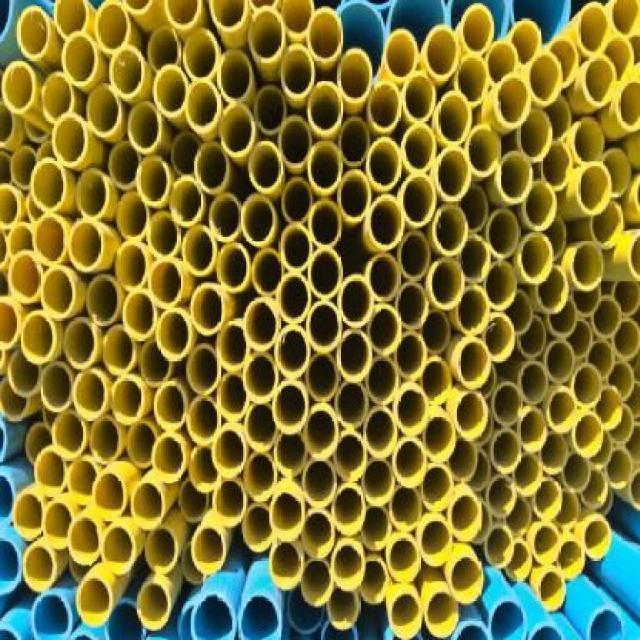pipe: (338, 0, 384, 80), (190, 590, 236, 638), (492, 74, 531, 130), (236, 593, 282, 639), (435, 144, 472, 201), (248, 6, 285, 62), (465, 123, 502, 179), (32, 591, 75, 639), (307, 8, 344, 63), (279, 44, 315, 100), (109, 45, 145, 101), (86, 83, 122, 139), (496, 151, 533, 205), (30, 158, 67, 212), (576, 162, 613, 216), (400, 172, 437, 226), (368, 195, 405, 249), (432, 203, 469, 257), (68, 219, 105, 273), (39, 266, 76, 320), (272, 381, 309, 435), (183, 27, 220, 81), (62, 33, 99, 87), (454, 55, 491, 109), (435, 92, 472, 146), (337, 48, 372, 105), (303, 406, 339, 461), (94, 1, 131, 54), (219, 103, 256, 156), (52, 115, 89, 168), (367, 136, 402, 192), (16, 5, 51, 61), (307, 81, 342, 137), (21, 311, 57, 365), (581, 52, 617, 106), (517, 109, 553, 163), (522, 178, 558, 231), (240, 194, 276, 247), (460, 2, 496, 55), (306, 299, 342, 352), (155, 308, 191, 361), (363, 406, 399, 459), (424, 26, 460, 79), (1, 61, 37, 114), (152, 65, 188, 118), (185, 79, 221, 132), (401, 122, 437, 175), (308, 140, 343, 194), (8, 250, 43, 304), (338, 274, 373, 328), (244, 296, 279, 350), (217, 48, 252, 102), (367, 79, 402, 133), (530, 49, 563, 106), (308, 247, 343, 300), (337, 329, 372, 382), (187, 343, 222, 396), (211, 425, 246, 478), (195, 142, 231, 193), (518, 232, 554, 283), (576, 2, 610, 56), (148, 258, 184, 309), (190, 282, 224, 336), (366, 305, 402, 356), (63, 318, 99, 369), (275, 327, 311, 378), (71, 369, 107, 420), (394, 385, 430, 436), (151, 432, 187, 483), (131, 479, 167, 530), (269, 490, 305, 541), (385, 28, 419, 82), (101, 525, 137, 576), (136, 579, 172, 630), (428, 260, 465, 309), (103, 597, 146, 639), (249, 140, 283, 193), (76, 168, 110, 221), (337, 170, 371, 223), (302, 457, 336, 510), (128, 101, 162, 154), (278, 115, 312, 168), (244, 352, 279, 403), (76, 577, 113, 625), (121, 290, 157, 339), (330, 543, 366, 592), (22, 543, 58, 592), (86, 274, 119, 327), (539, 139, 573, 190), (170, 176, 204, 227), (33, 214, 67, 265), (182, 225, 216, 276), (570, 240, 604, 291), (115, 241, 149, 292), (456, 285, 490, 336), (216, 321, 250, 372), (153, 379, 187, 430), (332, 486, 366, 537), (67, 516, 101, 567), (402, 72, 436, 123), (41, 72, 75, 123), (589, 200, 625, 248), (276, 275, 312, 323), (244, 402, 280, 450), (388, 592, 424, 640), (216, 243, 251, 292), (136, 156, 169, 207), (103, 325, 136, 376), (548, 37, 581, 88), (338, 116, 371, 167), (366, 254, 401, 302), (107, 141, 141, 190), (397, 231, 431, 280), (483, 261, 517, 310), (458, 341, 492, 390), (336, 380, 370, 429), (187, 395, 221, 444), (393, 439, 427, 488), (33, 449, 67, 498), (92, 468, 126, 517), (449, 493, 483, 542), (191, 526, 225, 575), (145, 526, 179, 575), (269, 541, 303, 590), (253, 85, 287, 134), (572, 117, 606, 166), (308, 199, 342, 247), (279, 224, 313, 272), (457, 235, 491, 283), (536, 265, 570, 313), (396, 281, 430, 329), (394, 332, 428, 380), (139, 339, 173, 387), (509, 19, 543, 67), (52, 411, 86, 459), (243, 452, 277, 500), (420, 466, 454, 514), (213, 479, 247, 527), (302, 511, 336, 559), (450, 556, 484, 604), (426, 592, 460, 640), (388, 487, 424, 532), (208, 192, 241, 241), (487, 209, 520, 258), (147, 211, 180, 260), (419, 356, 452, 405), (40, 363, 73, 412), (457, 185, 490, 233), (116, 192, 149, 240), (251, 248, 284, 296), (483, 314, 516, 362), (306, 353, 339, 401), (217, 372, 250, 420), (111, 375, 144, 423), (456, 392, 489, 440), (334, 433, 367, 481), (420, 519, 453, 567), (366, 358, 400, 404), (361, 460, 395, 506), (388, 537, 422, 583), (8, 352, 42, 397), (486, 39, 520, 84), (68, 457, 99, 506), (13, 492, 44, 541), (43, 501, 74, 550), (572, 413, 605, 459), (424, 417, 457, 463), (148, 26, 181, 72), (389, 487, 422, 533), (421, 309, 452, 357), (89, 416, 120, 464), (126, 419, 157, 467), (242, 504, 273, 552), (301, 559, 332, 607), (360, 507, 393, 552), (327, 586, 360, 631), (274, 433, 308, 476), (489, 600, 526, 639), (209, 0, 250, 35), (282, 177, 313, 223), (189, 446, 220, 492), (517, 362, 550, 405), (178, 480, 211, 523), (615, 77, 640, 133), (502, 289, 533, 334), (591, 295, 622, 340), (545, 339, 576, 384), (572, 362, 603, 407), (492, 382, 523, 427), (491, 429, 522, 474), (448, 438, 479, 483), (603, 149, 631, 198), (279, 0, 315, 38), (359, 555, 387, 603), (532, 476, 563, 519), (0, 536, 22, 596), (0, 377, 29, 422), (594, 385, 623, 430), (518, 409, 547, 454), (547, 298, 578, 340), (485, 527, 516, 569), (171, 133, 202, 175), (53, 0, 87, 38), (9, 145, 37, 190), (549, 387, 577, 432), (583, 516, 611, 561), (487, 476, 516, 519), (517, 315, 546, 357), (539, 433, 568, 475), (604, 448, 633, 490), (563, 451, 592, 493), (163, 0, 202, 31), (514, 455, 542, 498), (533, 523, 561, 566), (505, 540, 533, 583), (539, 570, 567, 612), (589, 607, 623, 640), (613, 317, 639, 360), (26, 422, 52, 465), (554, 487, 580, 530), (557, 540, 585, 579), (0, 296, 20, 350), (581, 470, 609, 508), (504, 498, 532, 536), (609, 404, 635, 444), (612, 279, 640, 316), (566, 320, 592, 358), (570, 286, 601, 317), (7, 221, 33, 257), (0, 183, 20, 229)
